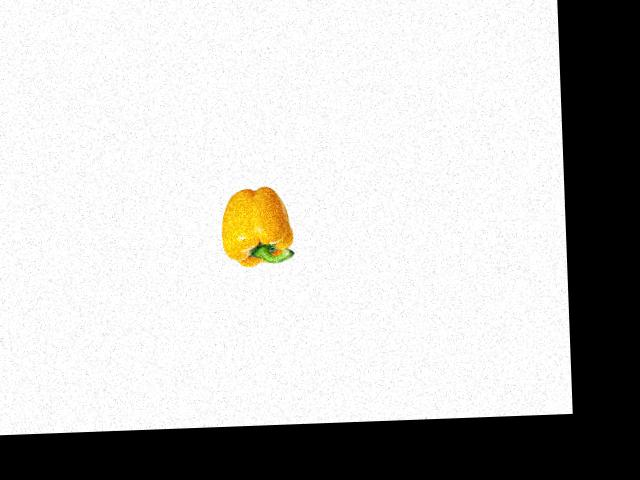bell_pepper: (213, 182, 302, 275)
